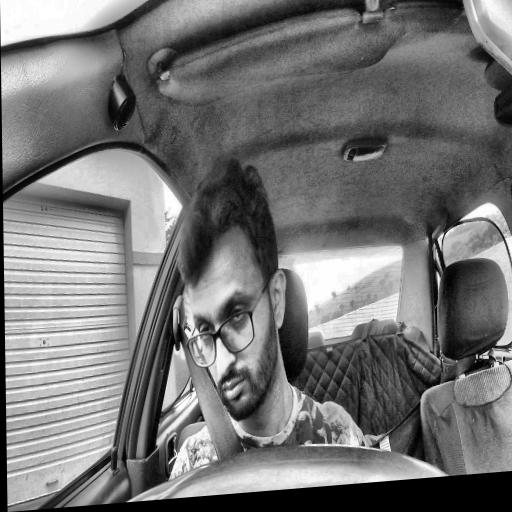awake: (177, 146, 290, 428)
